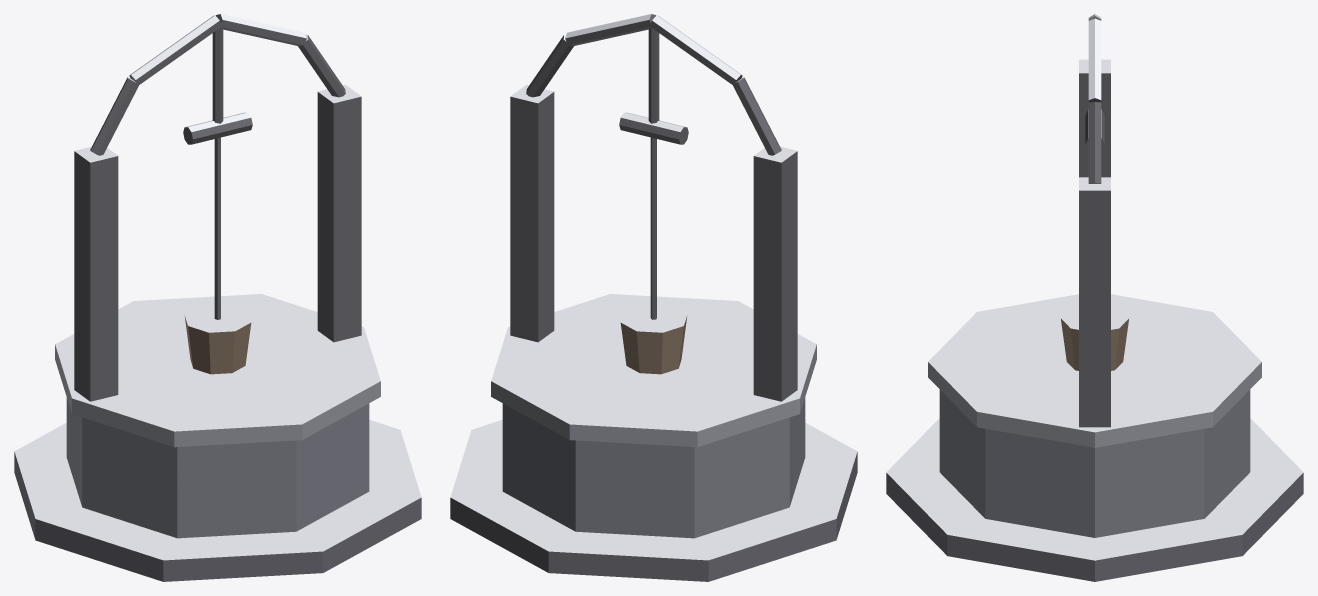
The model's file is PR_Poco.fbx.
3 views of the same model, side by side, from view 1: azimuth 30°, elevation 25°; view 2: azimuth 150°, elevation 25°; view 3: azimuth 270°, elevation 25° (orthographic).
Parts seen in each view (by area): view 1: PR_Poco; view 2: PR_Poco; view 3: PR_Poco.
Part boxes in pixels (box(x1,y1,x2,y2)): PR_Poco: box(14, 14, 421, 581); PR_Poco: box(450, 14, 857, 581); PR_Poco: box(886, 14, 1303, 581).
Size of the model in its own units: 3.9 by 4.91 by 3.9.
